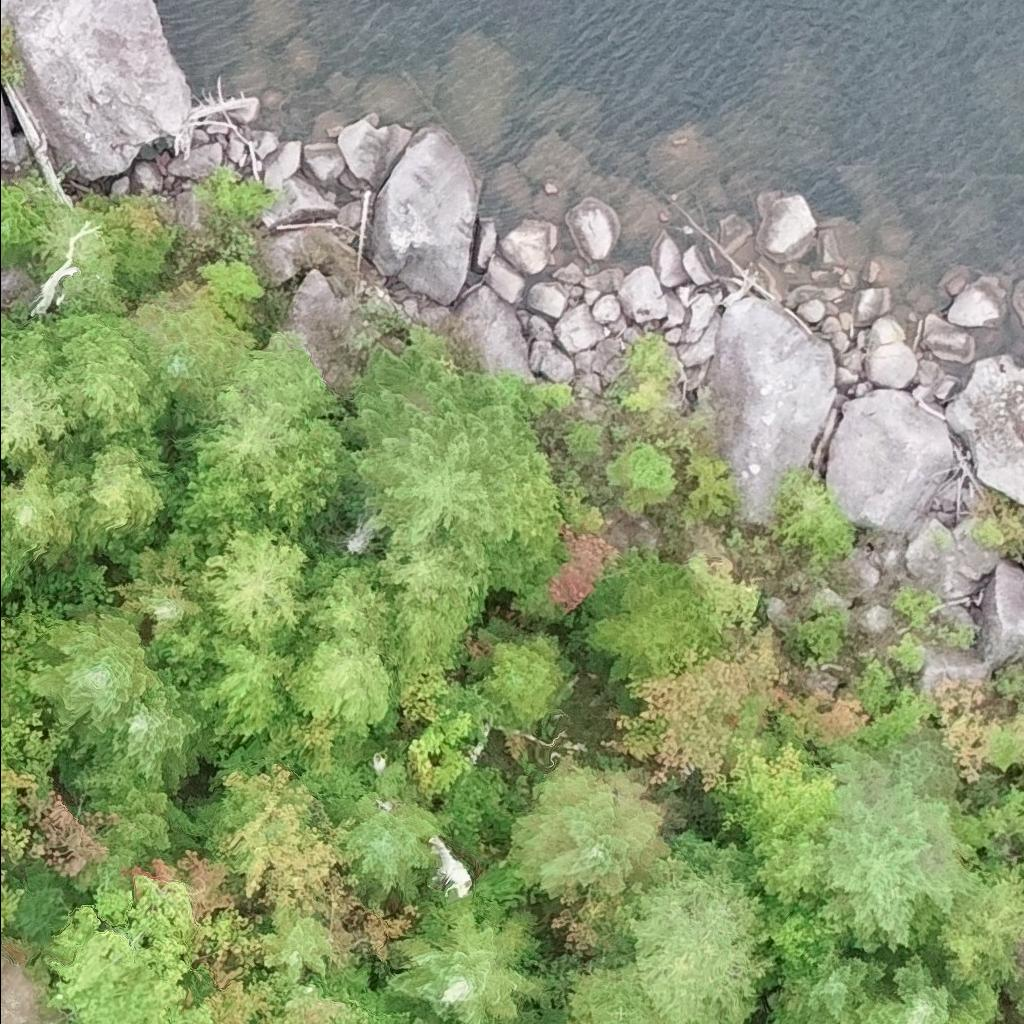crown: (346, 324, 535, 560), (817, 727, 986, 969), (45, 873, 256, 1023), (605, 621, 788, 793), (213, 762, 361, 957), (612, 851, 776, 1023), (567, 554, 724, 715), (508, 753, 674, 900), (184, 335, 346, 477), (388, 889, 542, 1023), (319, 753, 455, 903), (70, 665, 211, 790), (23, 611, 163, 732), (51, 312, 172, 446), (156, 437, 280, 561), (127, 292, 255, 410), (194, 521, 311, 641), (789, 655, 937, 749), (924, 857, 1023, 993), (709, 736, 838, 840), (284, 625, 398, 742), (0, 313, 83, 472), (251, 415, 360, 534), (375, 532, 494, 638), (197, 626, 296, 750), (0, 444, 94, 572), (72, 431, 169, 555), (302, 554, 401, 671), (851, 950, 999, 1023), (89, 768, 200, 862), (477, 630, 574, 733), (768, 946, 896, 1023), (112, 537, 205, 636), (753, 898, 851, 989), (926, 674, 1002, 783), (546, 525, 624, 616), (257, 899, 338, 983), (565, 959, 670, 1023), (251, 966, 366, 1023), (686, 548, 762, 633), (182, 953, 274, 1023), (747, 828, 830, 905), (407, 705, 471, 800), (0, 954, 67, 1023), (0, 182, 45, 266), (427, 835, 471, 897), (396, 674, 447, 724), (0, 551, 25, 607), (0, 883, 26, 931), (407, 1002, 461, 1023), (0, 695, 10, 726), (0, 468, 4, 485)
